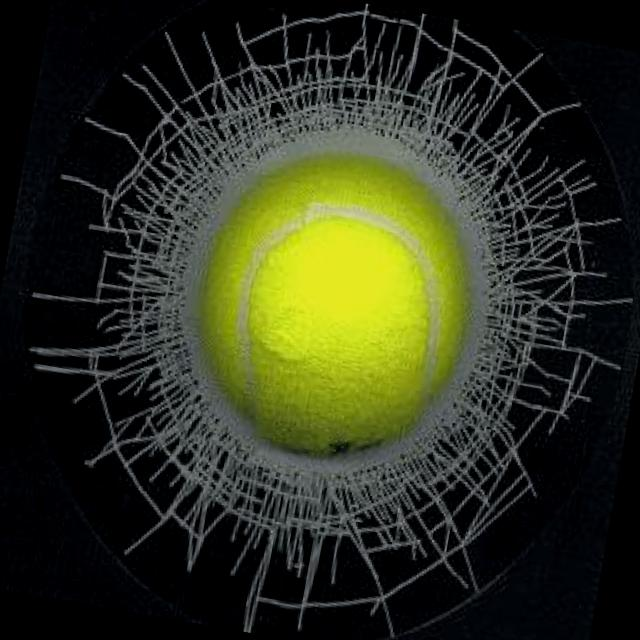Tennis Ball: (198, 154, 467, 457)
